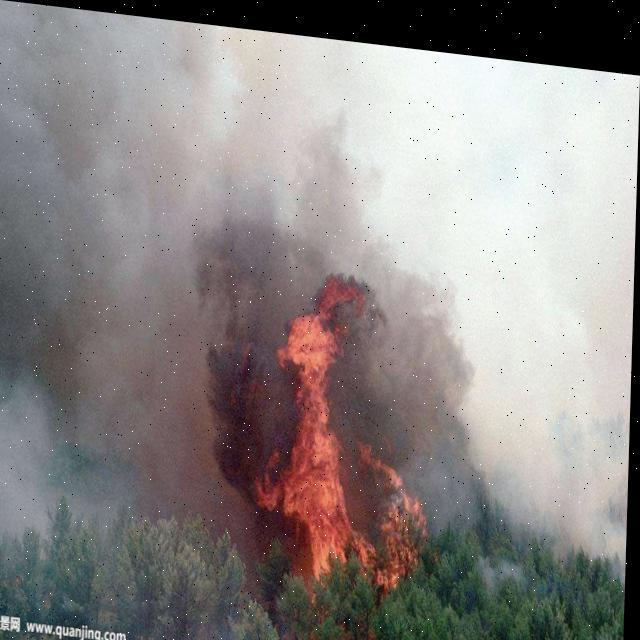Fire: (241, 259, 440, 639)
